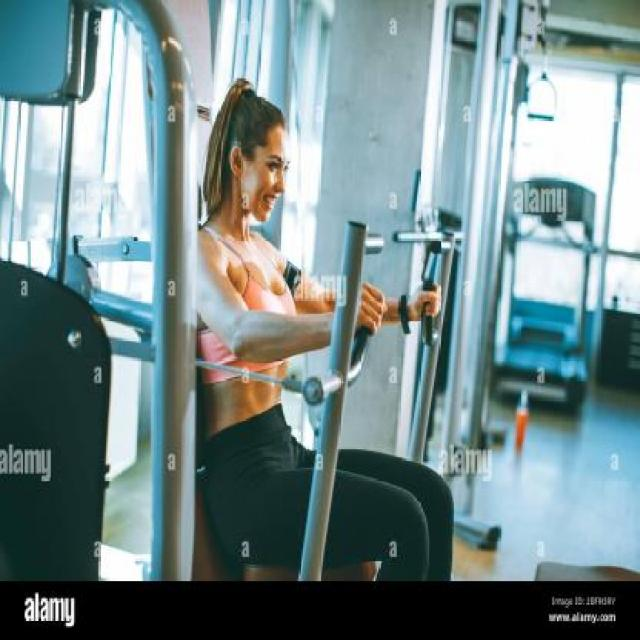Chest Press machine: (0, 0, 462, 580)
